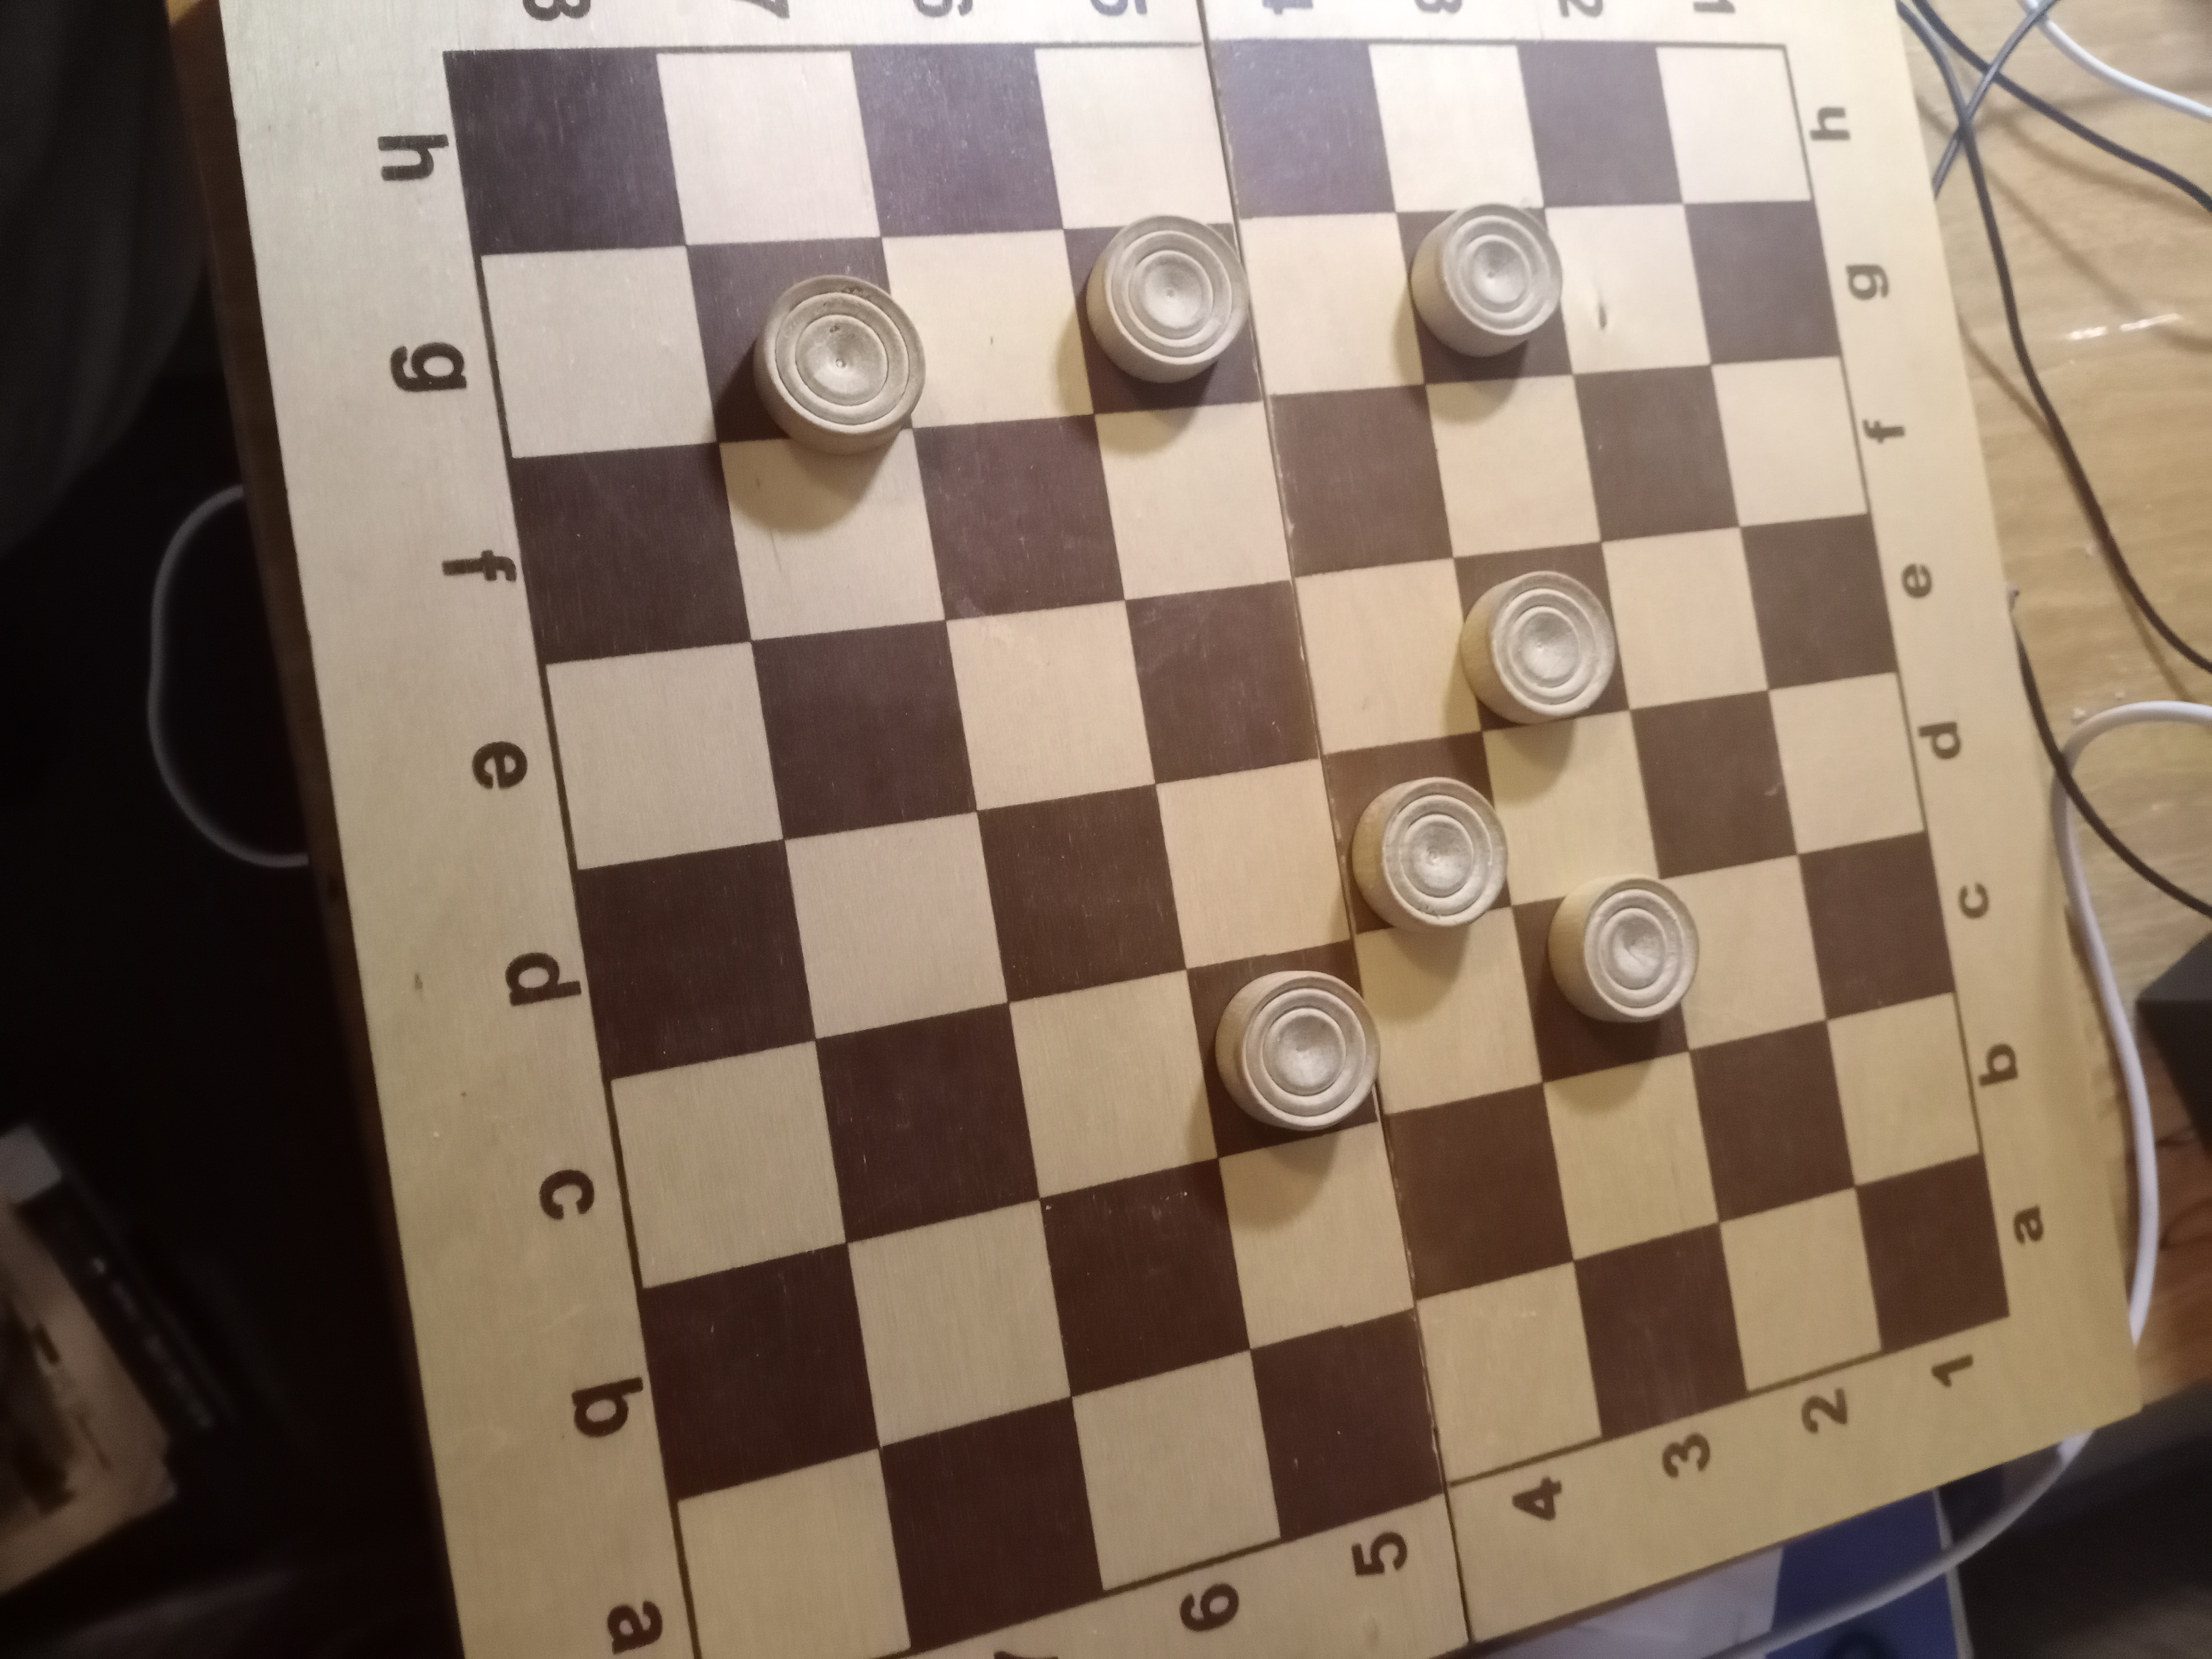White_Draught: (685, 237, 927, 451), (1188, 939, 1381, 1157), (1064, 214, 1264, 415), (1512, 875, 1702, 1084), (1320, 732, 1510, 936), (1456, 542, 1630, 732), (1395, 202, 1573, 385)
